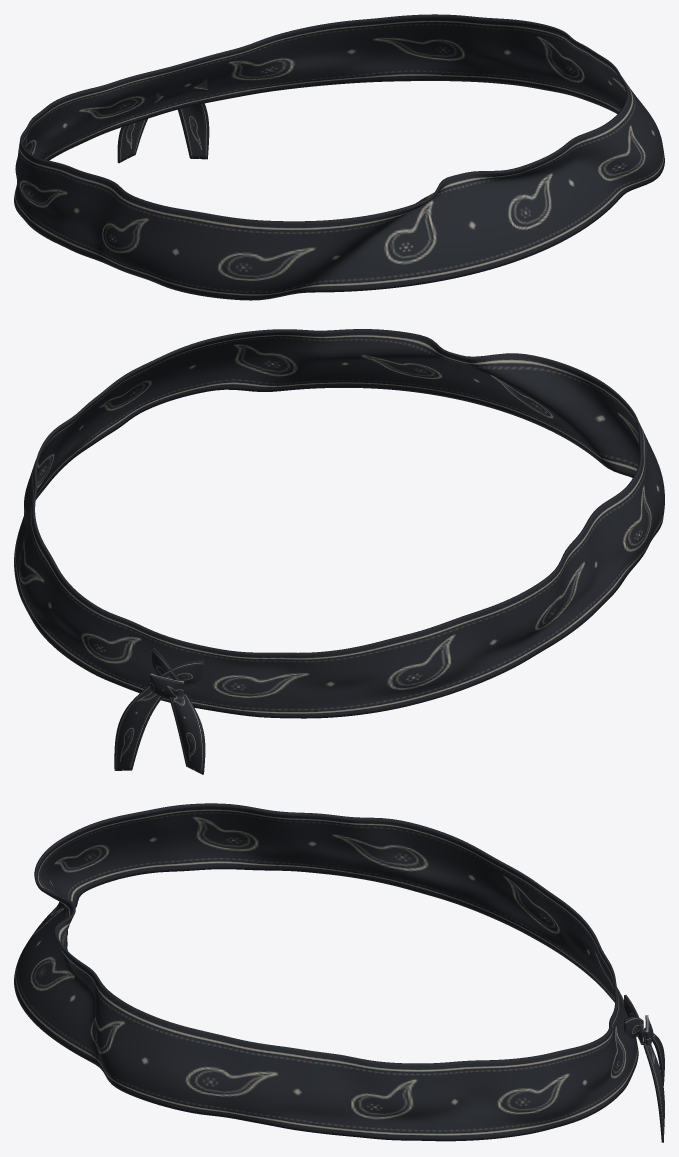
The model's file is Masculine-taper-bandana.glb.
3 views of the same model, one above another, from view 1: azimuth 30°, elevation 25°; view 2: azimuth 150°, elevation 25°; view 3: azimuth 270°, elevation 25° (orthographic).
Parts seen in each view (by area): view 1: Bandana / folded forehead wrap, Bandana / falling tie 1, Bandana / falling tie -1; view 2: Bandana / folded forehead wrap, Bandana / falling tie 1, Bandana / falling tie -1, Bandana / woven gather -1, Bandana / knot cross-fold; view 3: Bandana / folded forehead wrap, Bandana / falling tie 1.
Part boxes in pixels (x1,y1,x2,y2): Bandana / folded forehead wrap: (14, 14, 664, 300); Bandana / falling tie 1: (178, 103, 209, 159); Bandana / falling tie -1: (117, 119, 147, 163); Bandana / folded forehead wrap: (14, 329, 664, 718); Bandana / falling tie 1: (114, 685, 162, 770); Bandana / falling tie -1: (169, 694, 205, 774); Bandana / woven gather -1: (159, 659, 203, 685); Bandana / knot cross-fold: (150, 673, 184, 700); Bandana / folded forehead wrap: (14, 803, 638, 1141); Bandana / falling tie 1: (643, 1029, 664, 1142).
Size of the model in its own units: 0.7139 by 0.2672 by 0.7414.
Materials: 1 (1 with a texture image).
